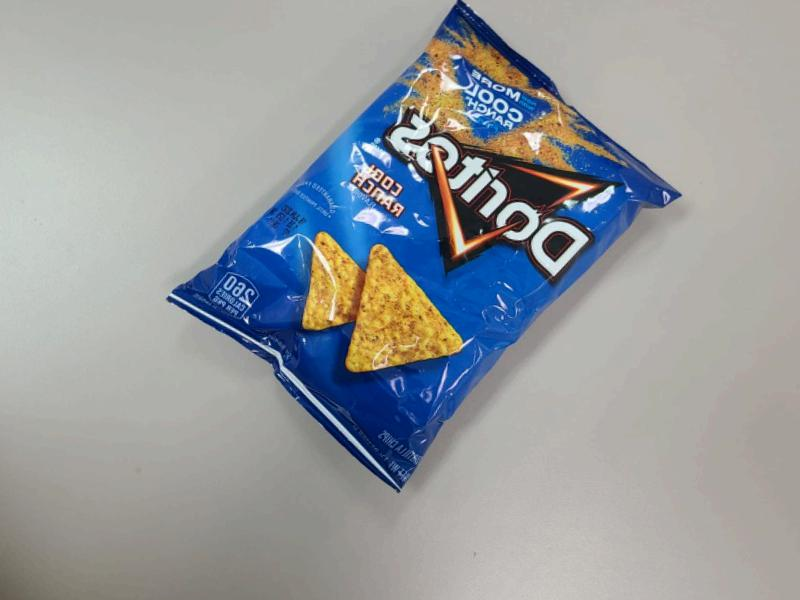doritos: (169, 89, 740, 553)
